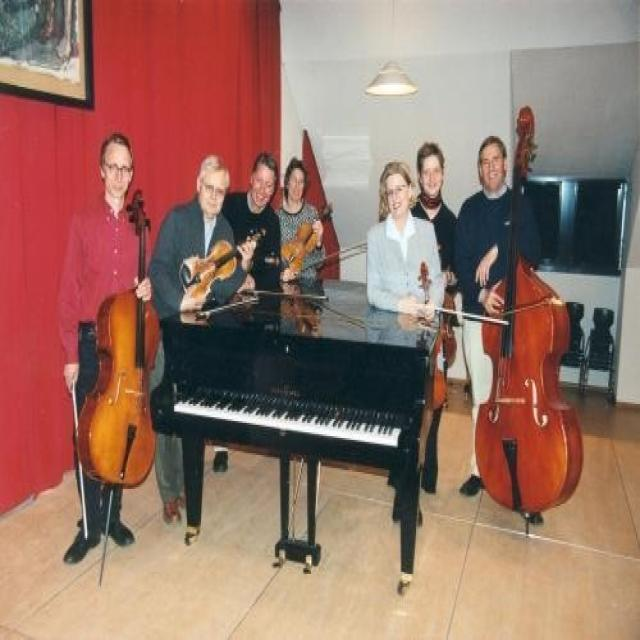cello: (76, 188, 158, 490)
violin: (179, 228, 268, 300), (419, 265, 449, 414), (281, 202, 337, 270), (438, 280, 459, 369)
